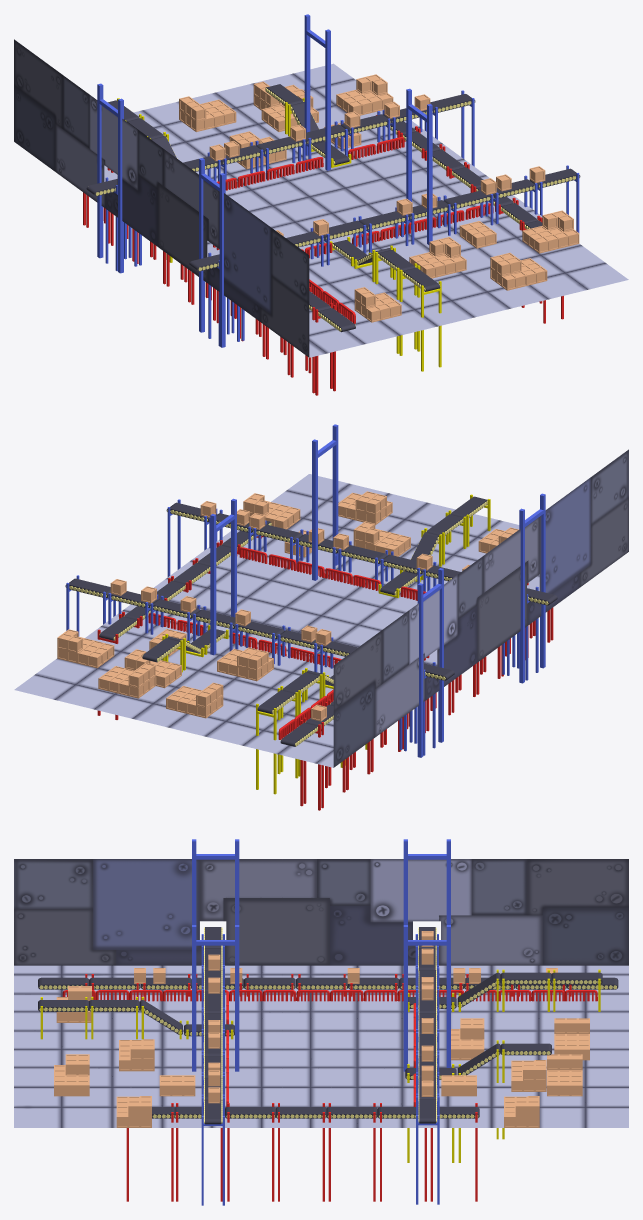
The model's file is Environment01Final.fbx.
The picture shows the model from 3 angles, top to bottom: view 1: azimuth 30°, elevation 25°; view 2: azimuth 150°, elevation 25°; view 3: azimuth 270°, elevation 25°; orthographic projection. The views are drawn at different scales.
Visible parts, largest first — view 1: Walls_Floors, MetalBar_65, MetalBar_64, MetalBar_60, MetalBar_61, MetalBar_131; view 2: Walls_Floors, MetalBar_65, MetalBar_64, MetalBar_60, MetalBar_61, MetalBar_134; view 3: Walls_Floors, ConvayerBelt_58 (×3), MetalBar_61, MetalBar_60, ConvayerBelt_43 (×3), MetalBar_64, MetalBar_65, ConvayerBelt_19, ConvayerBelt_18, ConvayerBelt_63, ConvayerBelt_37, MetalBar_126 (+8 smaller).
Boxes of the visible parts, box(x1,y1,x2,y2) form: Walls_Floors: box(14, 39, 628, 357); MetalBar_65: box(97, 83, 123, 273); MetalBar_64: box(199, 158, 225, 347); MetalBar_60: box(304, 14, 330, 170); MetalBar_61: box(406, 88, 432, 244); MetalBar_131: box(421, 281, 441, 371); Walls_Floors: box(14, 449, 628, 767); MetalBar_65: box(417, 568, 443, 757); MetalBar_64: box(519, 493, 545, 683); MetalBar_60: box(210, 498, 236, 655); MetalBar_61: box(312, 424, 338, 580); MetalBar_134: box(256, 703, 276, 794); Walls_Floors: box(14, 859, 628, 1127); ConvayerBelt_58 (×3): box(88, 972, 551, 1055); MetalBar_61: box(192, 925, 239, 1071); MetalBar_60: box(403, 925, 450, 1071); ConvayerBelt_43 (×3): box(140, 972, 500, 1075); MetalBar_64: box(192, 839, 239, 924); MetalBar_65: box(403, 839, 450, 924); ConvayerBelt_19: box(296, 977, 347, 989); ConvayerBelt_18: box(244, 977, 295, 989); ConvayerBelt_63: box(551, 972, 602, 984); ConvayerBelt_37: box(326, 1107, 377, 1118); MetalBar_126: box(416, 1115, 439, 1204).
Size of the model in its own units: 3.67 by 1.97 by 4.89.
